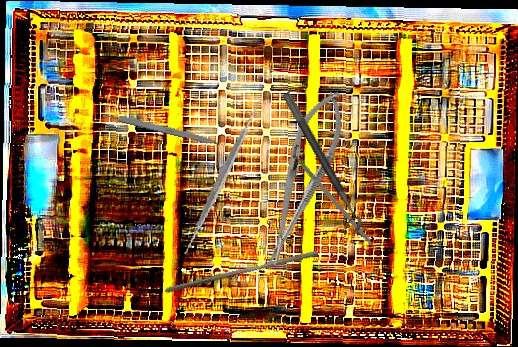Chopper: (294, 161, 387, 266)
Fixation Ring: (270, 91, 367, 239)
Needle Holder: (250, 83, 356, 272)
Pusher: (164, 244, 319, 300)
Scalpel Handle: (100, 109, 221, 147)
Spatula Surgical: (143, 98, 302, 257)
